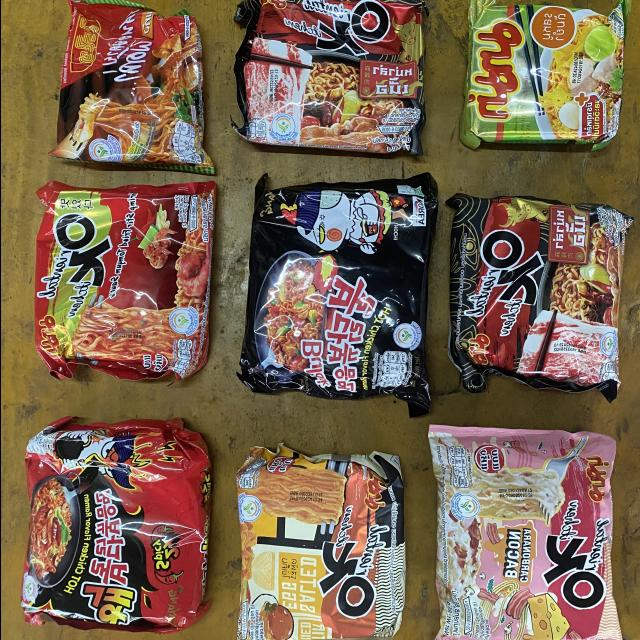plastik: (237, 174, 436, 417), (428, 425, 622, 640), (20, 417, 210, 634), (446, 194, 631, 400), (34, 182, 215, 380), (236, 445, 405, 640), (234, 0, 422, 155), (49, 0, 214, 175), (459, 0, 630, 149)
